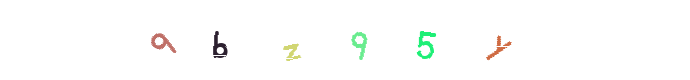5: (330, 0, 410, 80)
9: (178, 0, 258, 80), (305, 0, 385, 80)
B: (244, 0, 324, 80)
Y: (385, 0, 465, 80)
Z: (265, 0, 345, 80)
